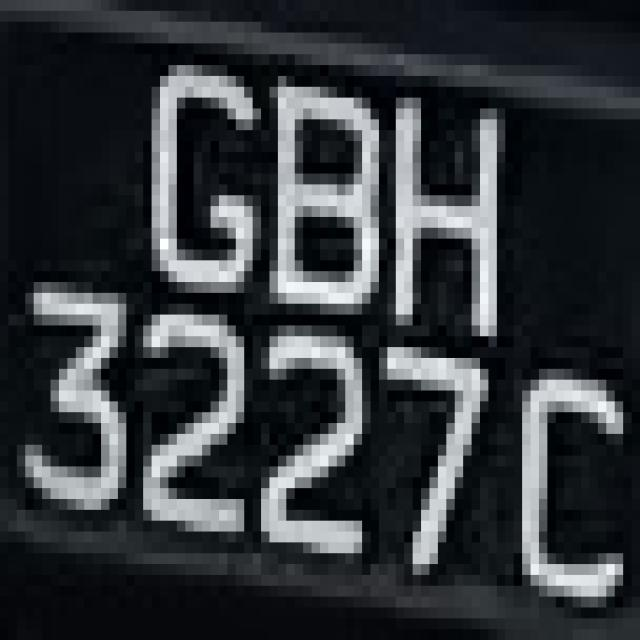2: (252, 304, 396, 596), (134, 271, 252, 597)
3: (8, 238, 135, 532)
7: (362, 293, 497, 586)
B: (253, 43, 387, 314)
C: (514, 336, 632, 618)
G: (118, 32, 261, 293)
H: (371, 54, 522, 358)
